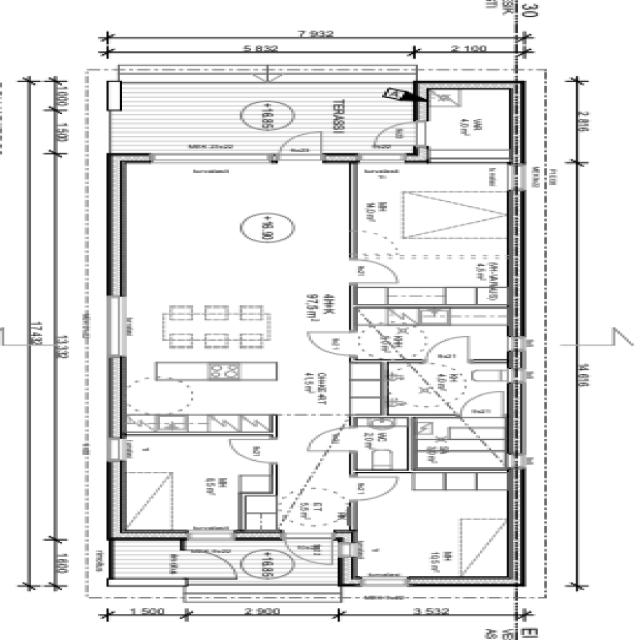door: (352, 310, 514, 362), (344, 252, 406, 287), (272, 129, 332, 161), (344, 472, 406, 502), (279, 530, 333, 564), (367, 119, 428, 149), (303, 326, 359, 358), (220, 435, 279, 465), (456, 388, 510, 419), (423, 333, 475, 362), (302, 426, 347, 455), (300, 485, 347, 506)
window: (137, 146, 276, 170), (95, 292, 136, 362), (422, 153, 514, 168), (175, 528, 243, 546), (351, 574, 417, 590), (350, 150, 413, 166), (102, 436, 134, 465)
zone: (118, 166, 352, 417), (348, 160, 514, 310), (348, 468, 516, 582), (112, 434, 274, 536), (347, 308, 516, 362), (420, 81, 521, 162), (376, 358, 516, 416), (409, 416, 511, 470), (342, 419, 410, 473)
